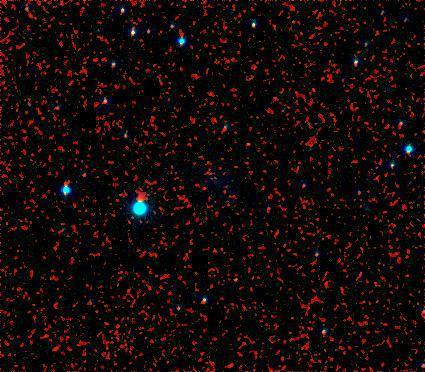star: (231, 131, 261, 161)
